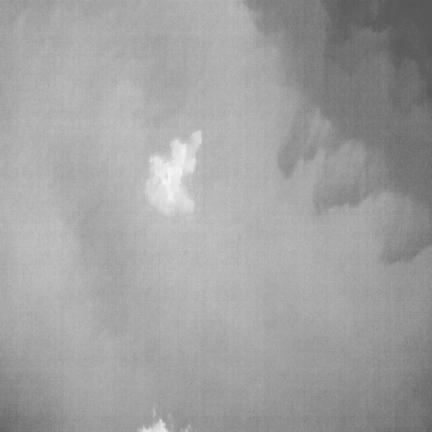flukeprints: (145, 131, 201, 214)
